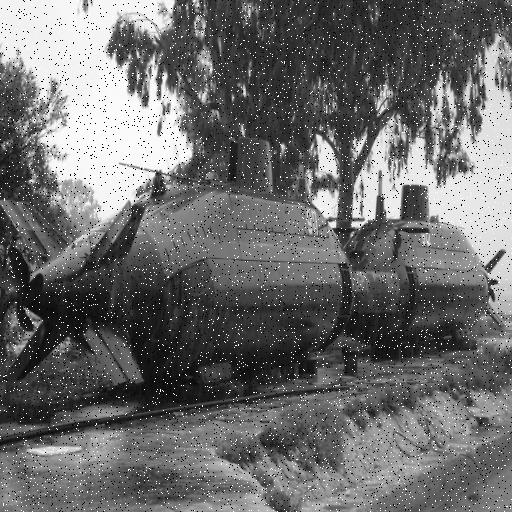submarine: (1, 138, 352, 406), (356, 178, 508, 371)
